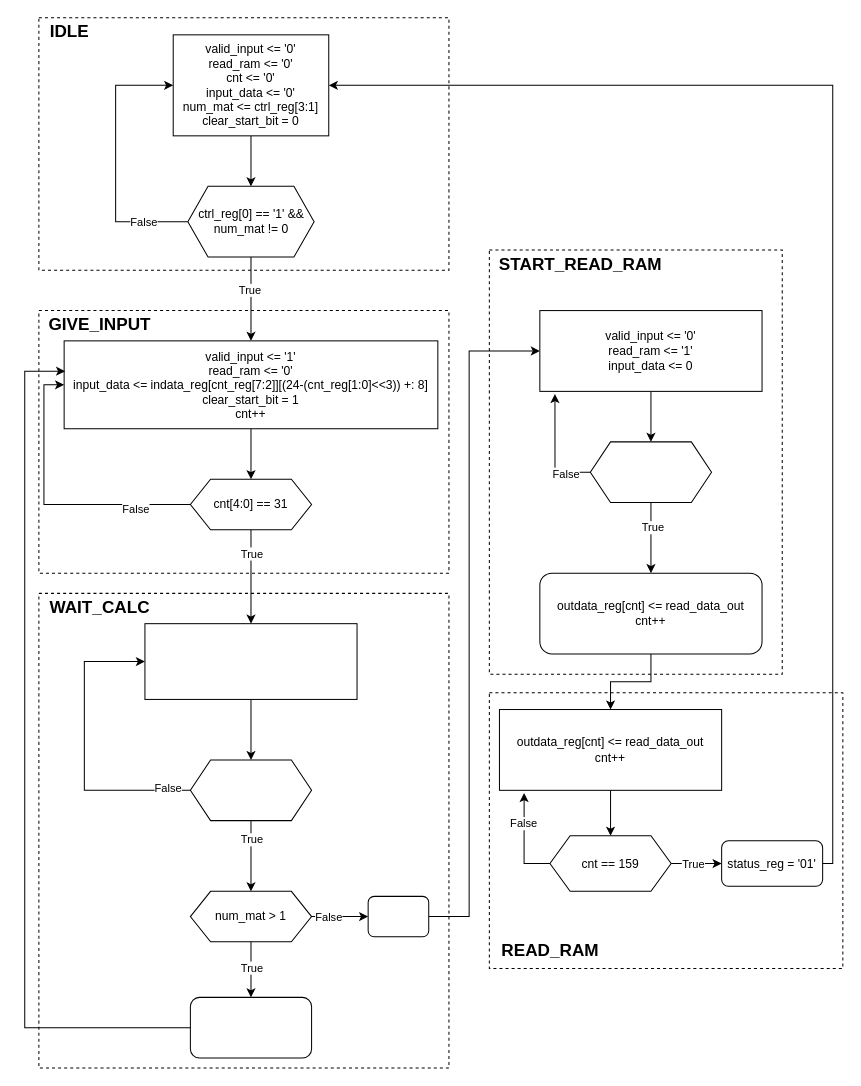
Image size: 861x1086. Some labels were removed from this diagram. The centre of each missing label's shape, as x and y in pixels:
cnt = 0: pixel 398 916
finish == '1': pixel 250 790
num_mat--;: pixel 250 1027
read_data_out != 0: pixel 650 471
valid_input <= '0' read_ram <= '0' input_data <='0' clear_start_bit = 0: pixel 250 661
